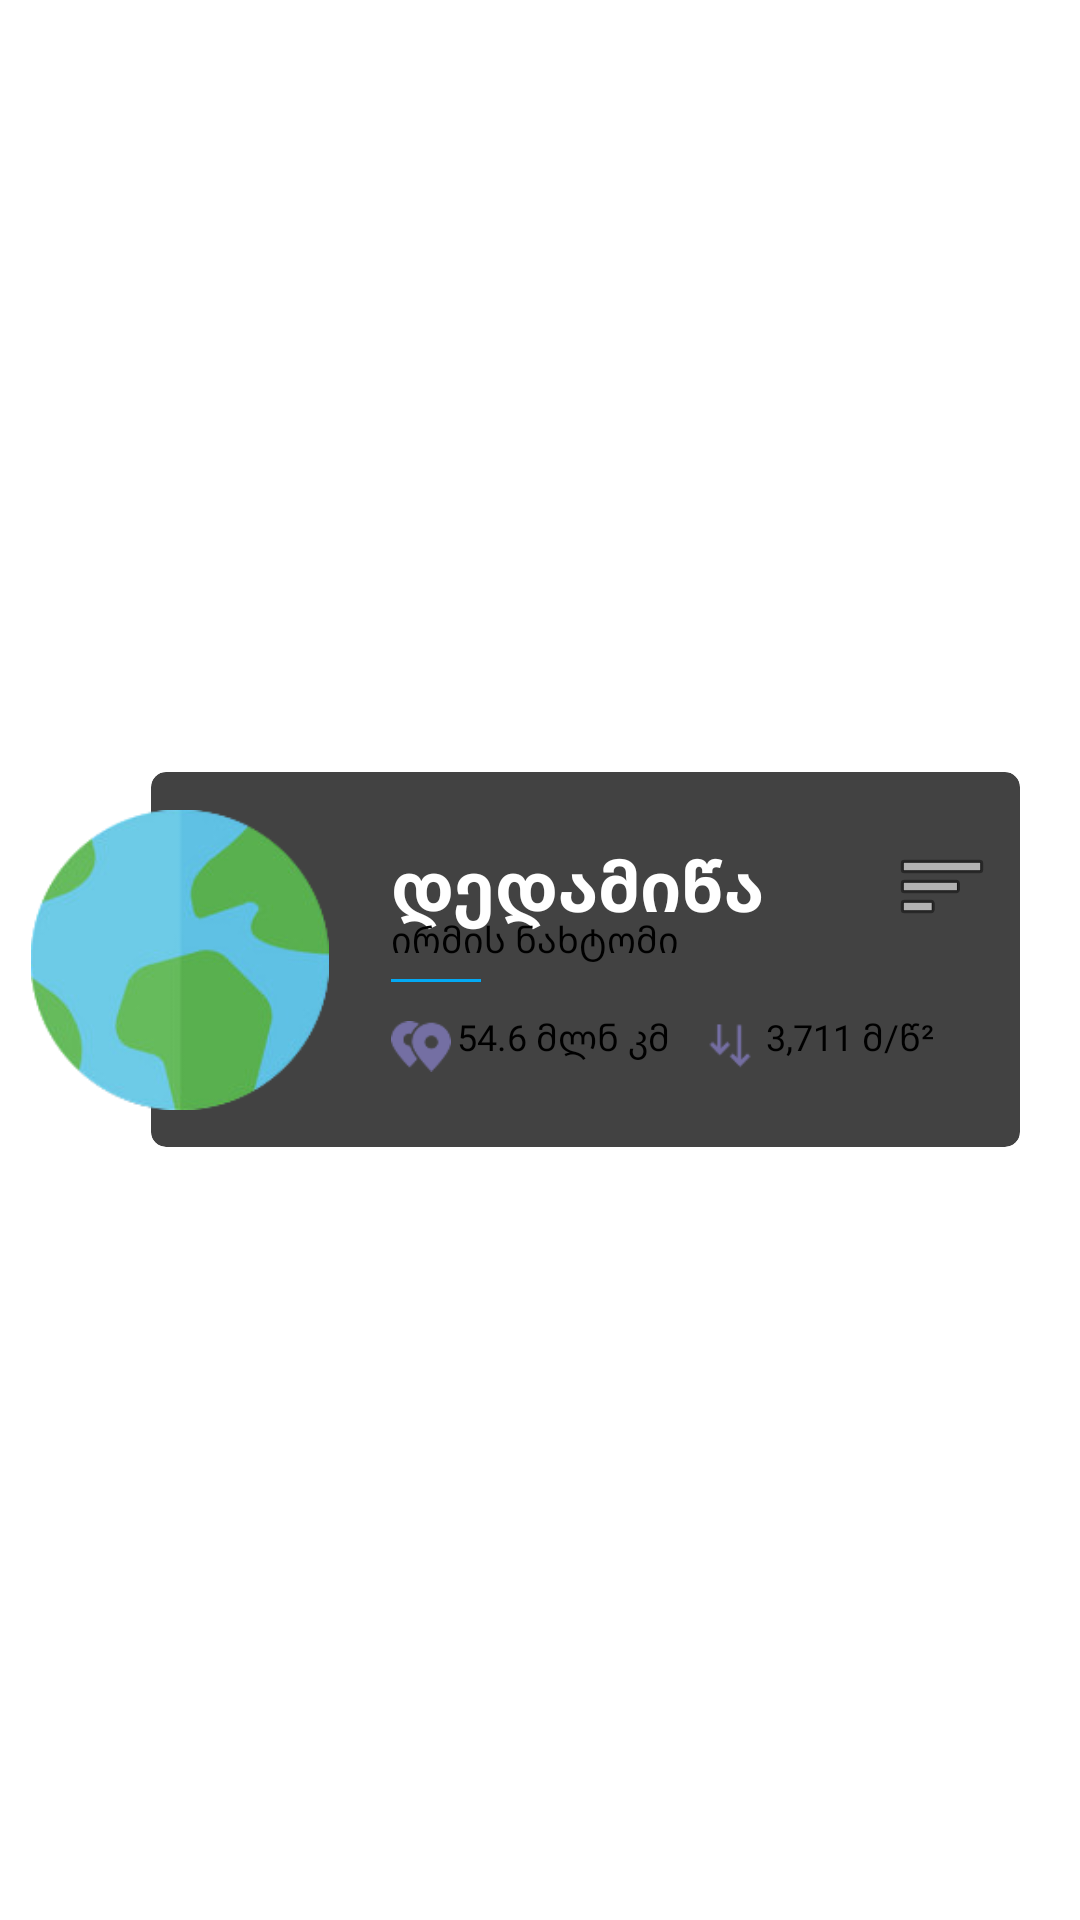

Named icons in this screenshot (1080x1920) and their centers, [x,y]:
distance: [421,1046]
earth: [180,960]
gravity: [730,1045]
sort by size: [942,886]
